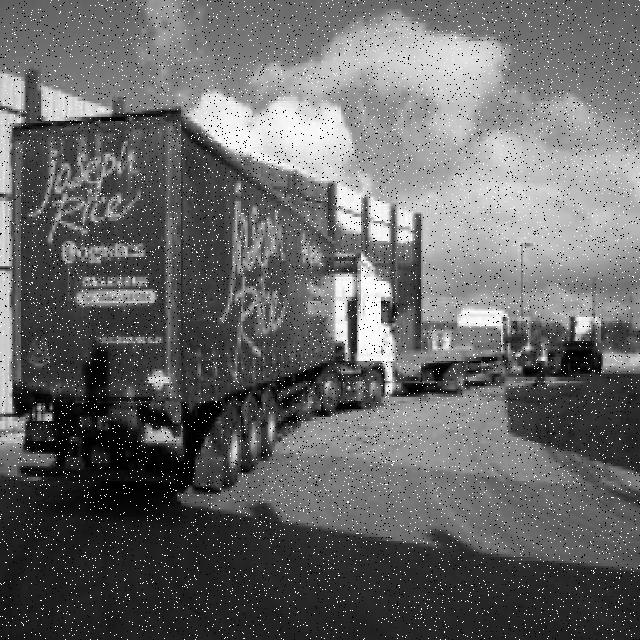Box Truck: (12, 111, 399, 496)
